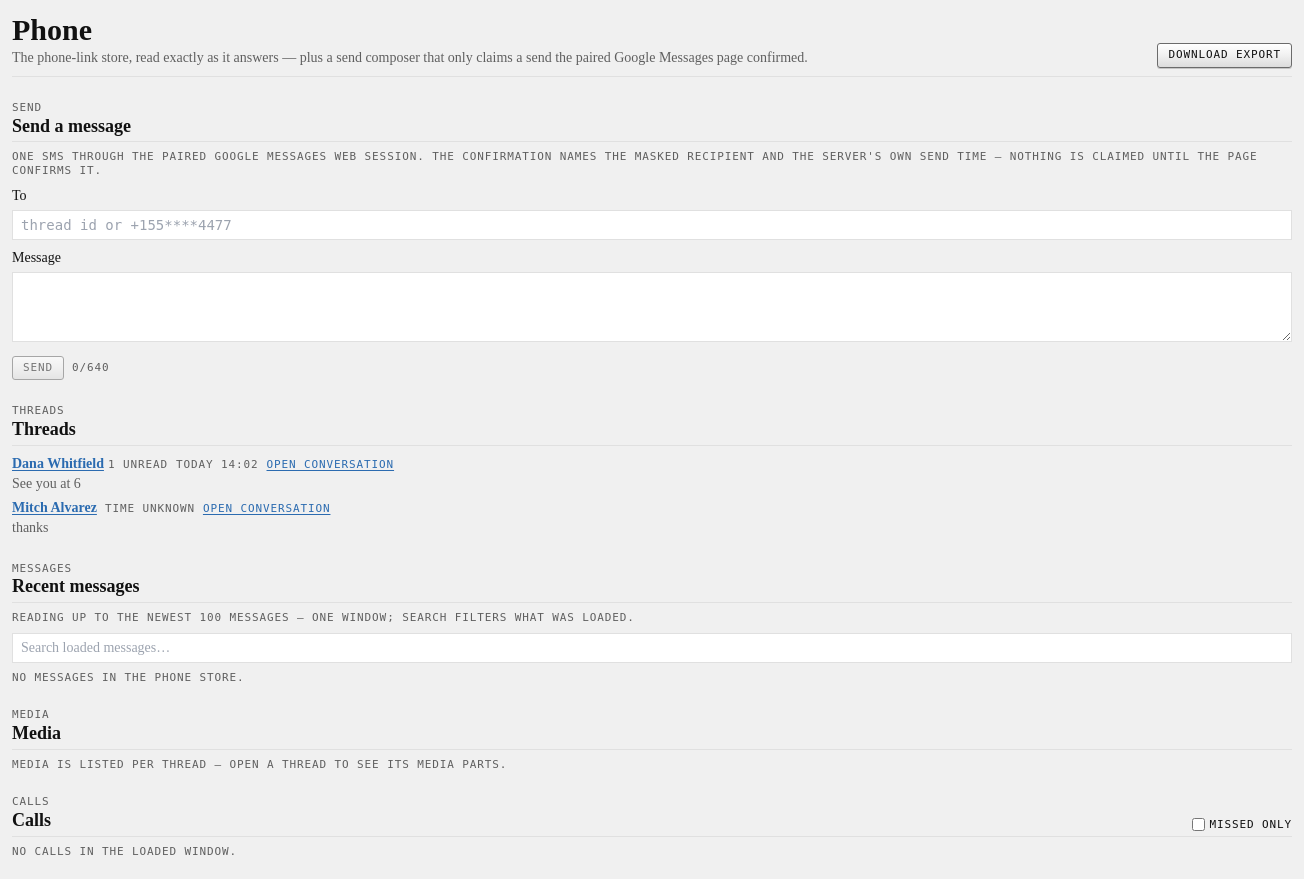
phone send composer — honest refusals › E_PHONE_UNAVAILABLE disables the composer and says the driver is unreachable
Type "11" into the field with test id "phone-send-to" at (652, 225), box [12,210,1292,240]
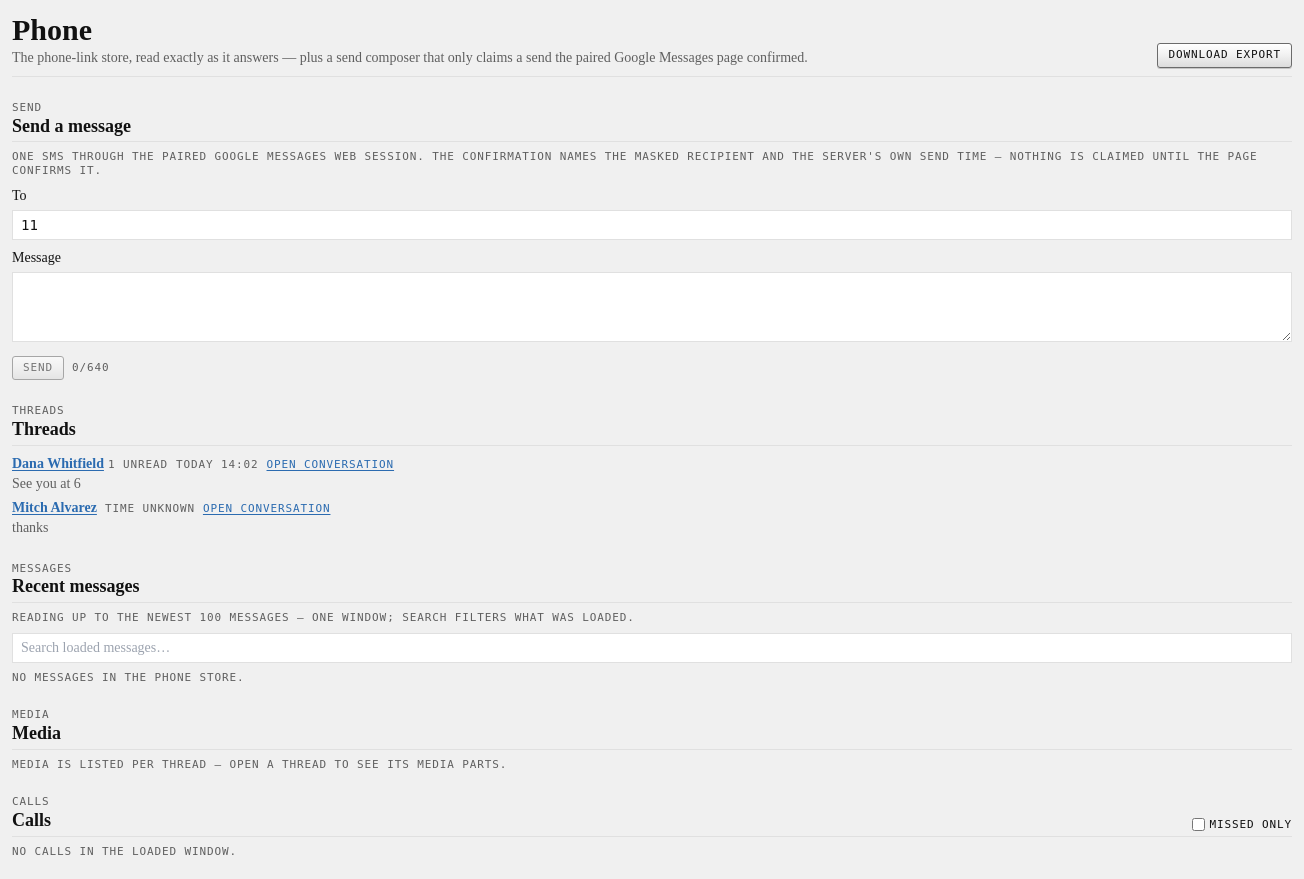
Type "Running late" into the text box with test id "phone-send-body" at (652, 307), box [12,272,1292,342]
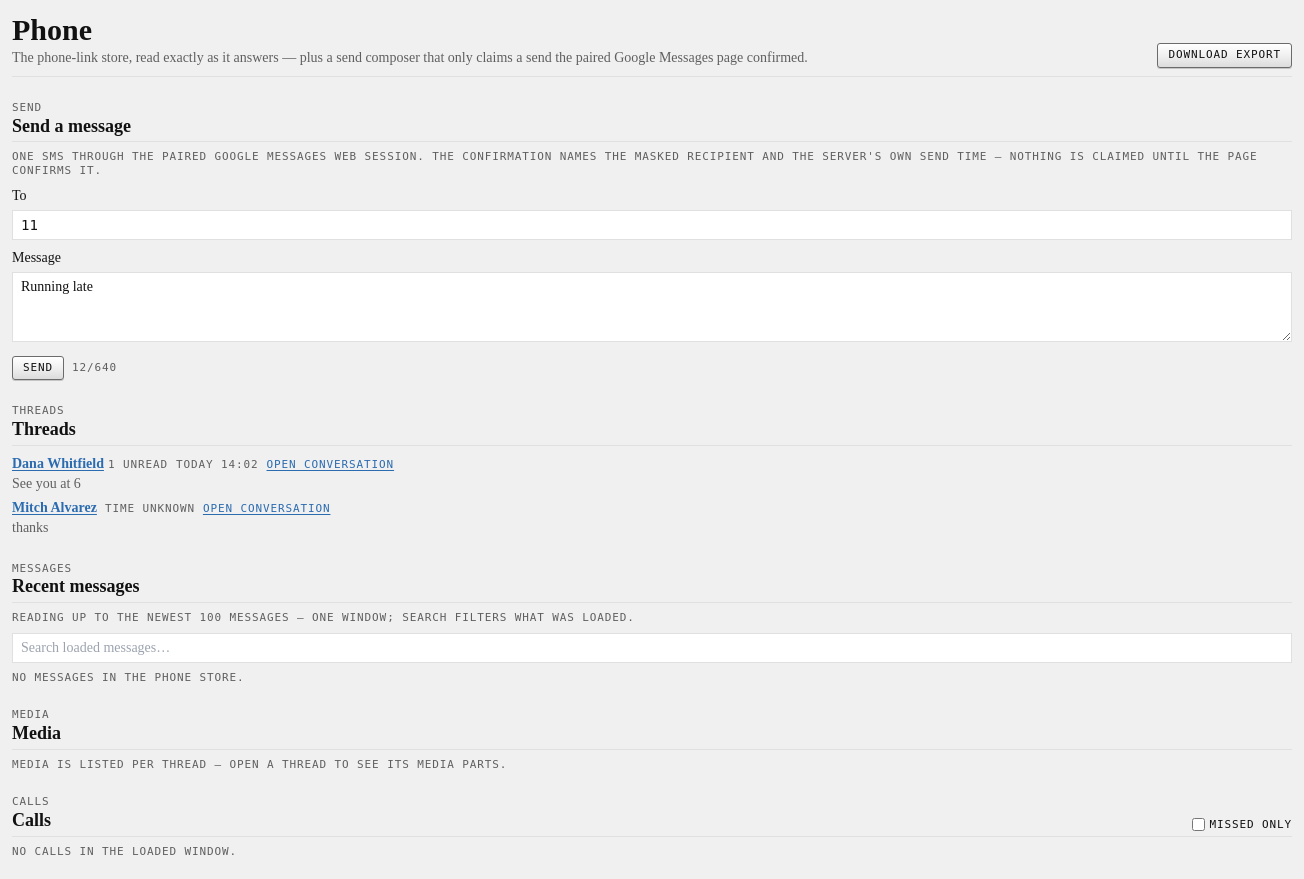
Click the button with test id "phone-send-submit" at (38, 368), box [12,356,64,380]
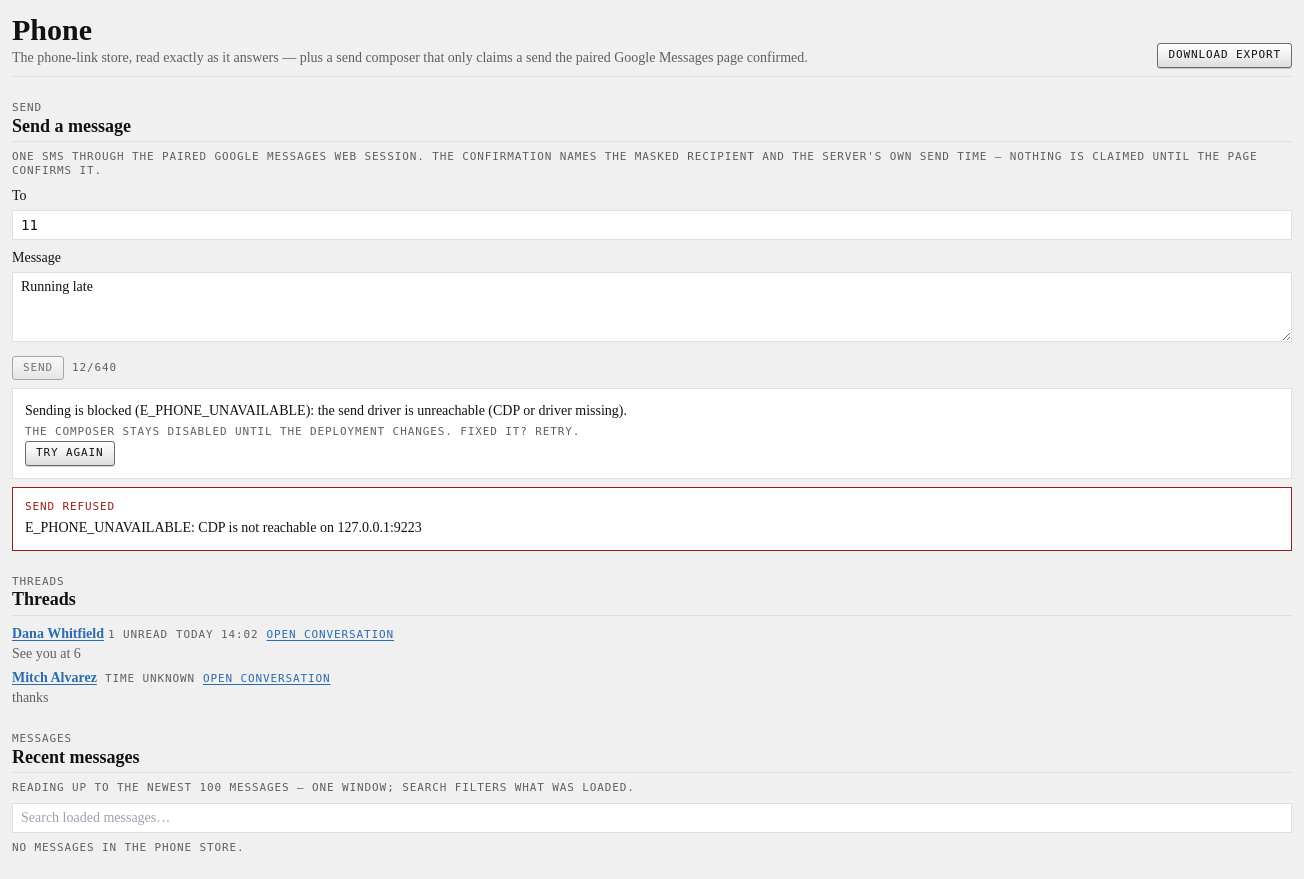
expect the message with test id "phone-send-error" shows "E_PHONE_UNAVAILABLE": met, box [25,520,422,534]
expect the message with test id "phone-send-error" shows "9223": met, box [25,520,422,534]
expect the button with test id "phone-send-submit" is disabled: met, box [12,356,64,380]
